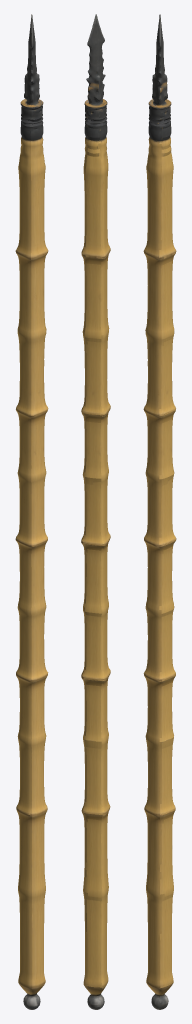
Rendered from Fisga.obj.
3 renders of one model, left to right at view 1: azimuth 90°, elevation 25°; view 2: azimuth 210°, elevation 25°; view 3: azimuth 270°, elevation 25°, orthographic.
Parts seen in each view (by area): view 1: Mesh_0; view 2: Mesh_0; view 3: Mesh_0.
Boxes of the visible parts, left/top/right/bottom form: Mesh_0: left=15, top=14, right=48, bottom=1009; Mesh_0: left=81, top=14, right=110, bottom=1009; Mesh_0: left=143, top=14, right=176, bottom=1009.
Size of the model in its own units: 0.0569 by 1.91 by 0.0569.
Materials: 1 (1 with a texture image).
